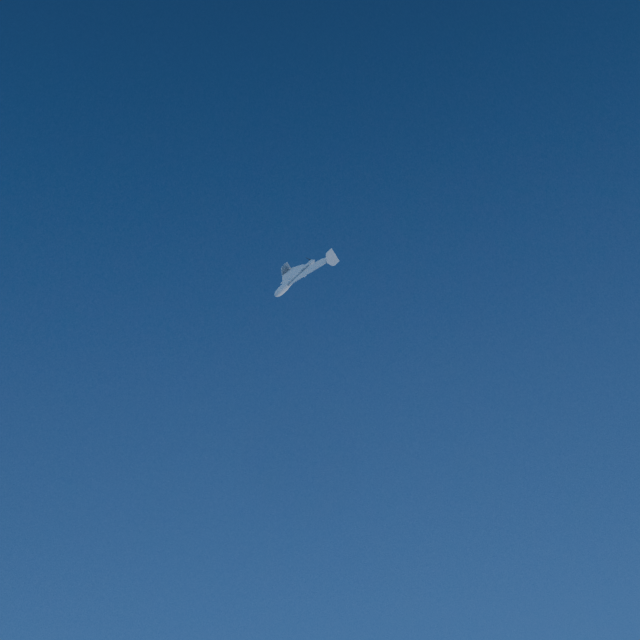shahed: (274, 248, 339, 297)
